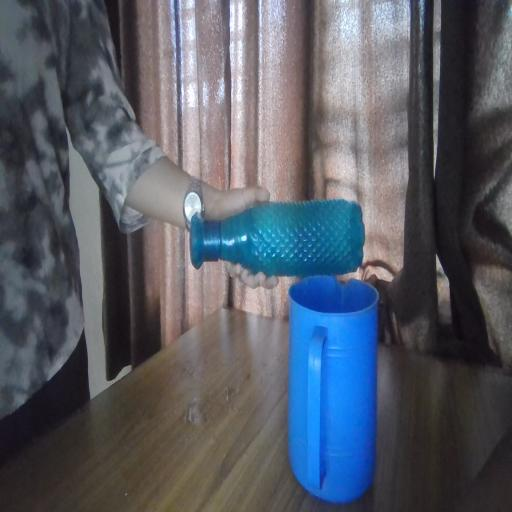Bottle: (166, 198, 385, 288)
